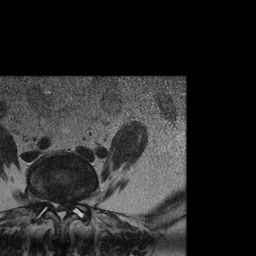CCS_normal: (58, 196, 64, 225)
LFS_severe_stenosis: (71, 190, 77, 211)
LLS_severe_stenosis: (64, 195, 70, 217)
RFS_severe_stenosis: (44, 189, 51, 212)
RLS_stenosis: (51, 194, 58, 218)
